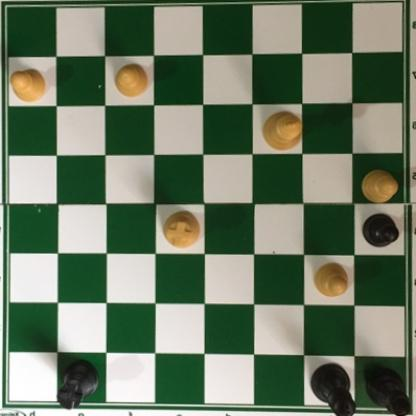black-bishop: (362, 367, 410, 415)
black-king: (308, 360, 358, 415)
black-pawn: (360, 214, 399, 249)
black-rook: (52, 361, 97, 414)
white-king: (260, 107, 303, 152)
white-pawn: (360, 167, 400, 206), (7, 71, 49, 106), (112, 63, 150, 101), (313, 262, 351, 298)
white-rook: (160, 211, 200, 252)
